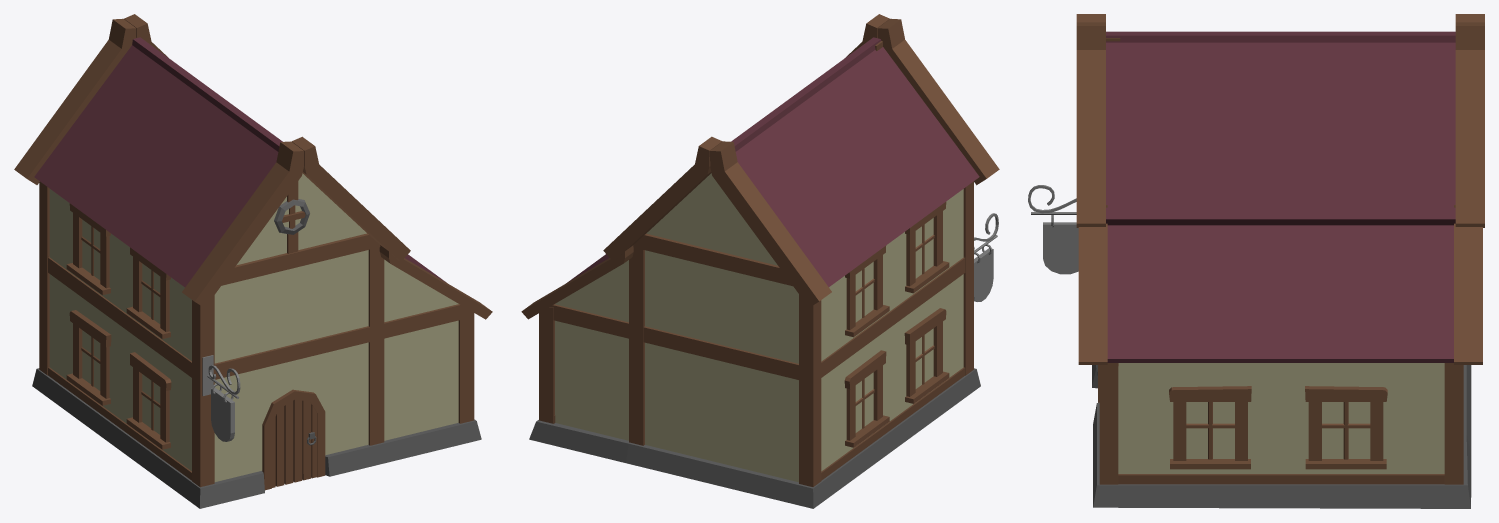
The model's file is House_3.fbx.
3 views of the same model, side by side, from view 1: azimuth 30°, elevation 25°; view 2: azimuth 150°, elevation 25°; view 3: azimuth 270°, elevation 25° (orthographic). The views are drawn at different scales.
Parts seen in each view (by area): view 1: Cube.032, 03_krisha.006, 02_stolby_krisha.007, Cube.034, 18_rama_okno_vertik.004, 18_rama_okno_vertik.005, Cube.041, House.004, Cube.033, Cube.038, Cube.036, Cube.035 (+4 smaller); view 2: Cube.032, 03_krisha.006, 02_stolby_krisha.007, Cube.034, 18_rama_okno_vertik.004, 18_rama_okno_vertik.005, Cube.041, Cube.033, Cube.038, Cube.035, 02_stolby_krisha.008, Cube.042 (+1 smaller); view 3: 03_krisha.006, 03_krisha.007, Cube.032, 02_stolby_krisha.007, 18_rama_okno_vertik.004, 02_stolby_krisha.008, Cube.035, Cube.044, 25_viveska.
Part boxes in pixels (x1,y1,x2,y2): Cube.032: (32,173,481,508); 03_krisha.006: (34,37,282,287); 02_stolby_krisha.007: (14,14,410,307); Cube.034: (39,181,384,487); 18_rama_okno_vertik.004: (66,310,171,449); 18_rama_okno_vertik.005: (66,203,170,338); Cube.041: (48,256,463,379); House.004: (272,399,316,487); Cube.033: (221,233,380,285); Cube.038: (48,257,191,377); Cube.036: (262,389,325,490); Cube.035: (458,307,474,423); Cube.032: (529,173,980,508); 03_krisha.006: (731,37,979,286); 02_stolby_krisha.007: (603,14,999,307); Cube.034: (629,181,973,486); 18_rama_okno_vertik.004: (844,308,949,447); 18_rama_okno_vertik.005: (845,202,949,337); Cube.041: (550,257,964,379); Cube.033: (633,233,792,286); Cube.038: (821,257,965,377); Cube.035: (539,307,554,423); 02_stolby_krisha.008: (521,245,633,319); Cube.042: (821,367,965,480); 03_krisha.006: (1106,31,1455,225); 03_krisha.007: (1107,225,1453,362); Cube.032: (1092,363,1471,508); 02_stolby_krisha.007: (1076,14,1484,227); 18_rama_okno_vertik.004: (1169,386,1387,469); 02_stolby_krisha.008: (1078,205,1482,364); Cube.035: (1099,363,1463,484); Cube.044: (1118,474,1444,484); 25_viveska: (1043,222,1078,274).
Size of the model in its own units: 410 by 447 by 480.
